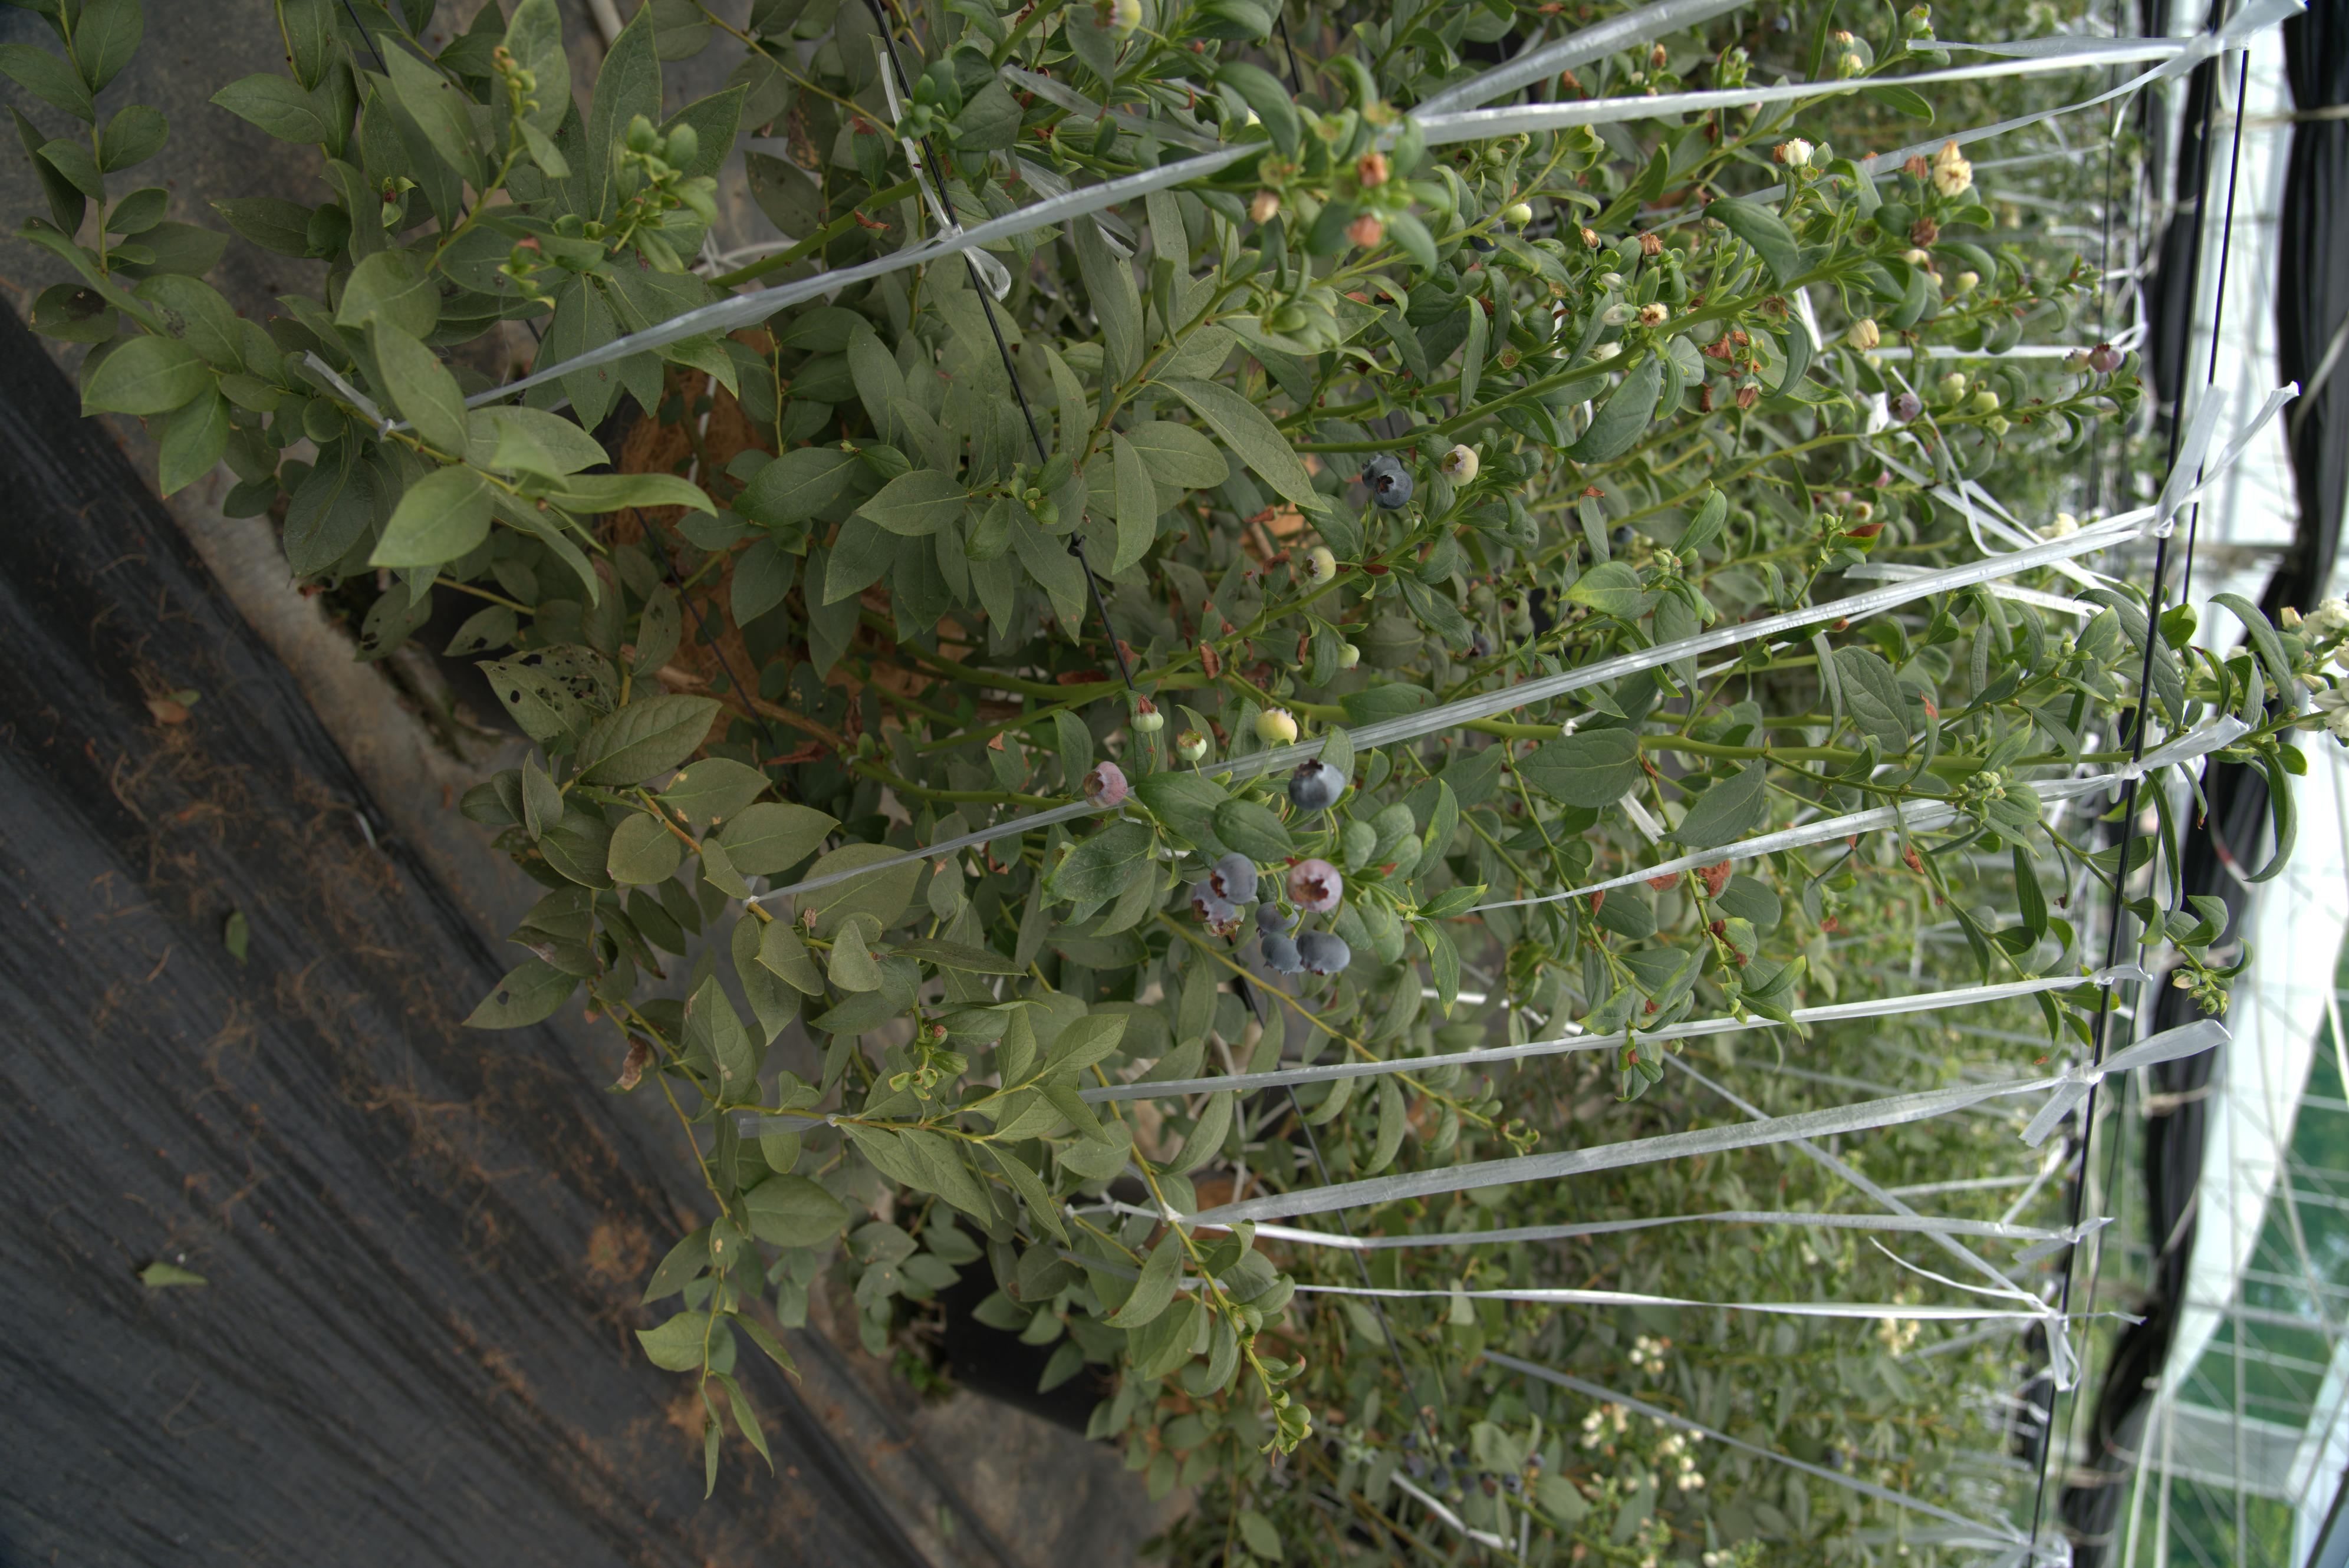ripe-blueberries: (1141, 672, 1218, 707), (1392, 667, 1469, 702), (1278, 728, 1357, 759), (1397, 696, 1467, 726), (317, 563, 383, 588), (702, 625, 763, 651), (681, 633, 733, 660), (1351, 702, 1395, 730), (945, 569, 991, 593), (788, 474, 819, 495)
semi-ripe-blueberries: (1139, 815, 1215, 845), (1057, 702, 1122, 731), (667, 581, 732, 607), (1048, 789, 1099, 819), (819, 675, 875, 700), (1094, 761, 1145, 784), (959, 660, 1006, 681), (515, 152, 562, 173), (299, 546, 350, 565), (520, 171, 565, 192), (557, 255, 595, 276), (747, 318, 788, 332)
